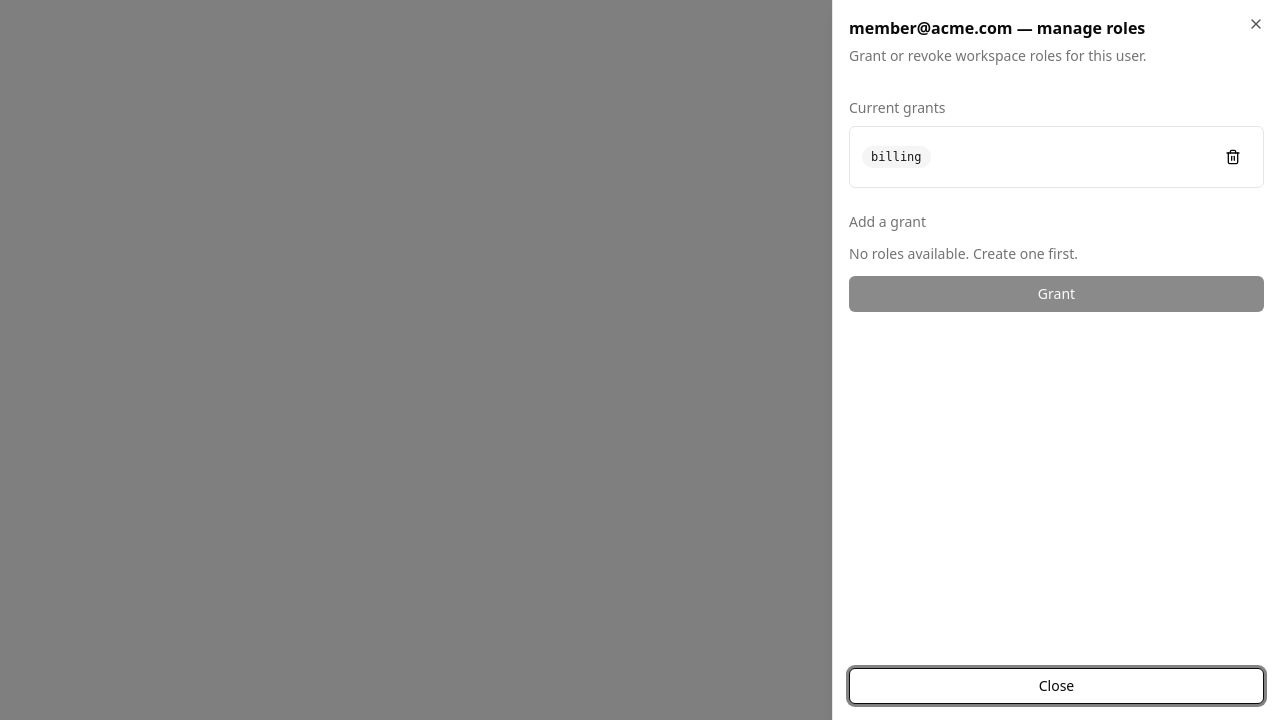
Scenario: <GrantManagerDialog scope='workspace' /> › renders the owner-floor error inline when revoke returns 409
Expected: the text "billing" is shown, 862,146 -> 931,168
Click the button named "revoke billing". click: (1233, 157)
box: 1215,139 -> 1251,175
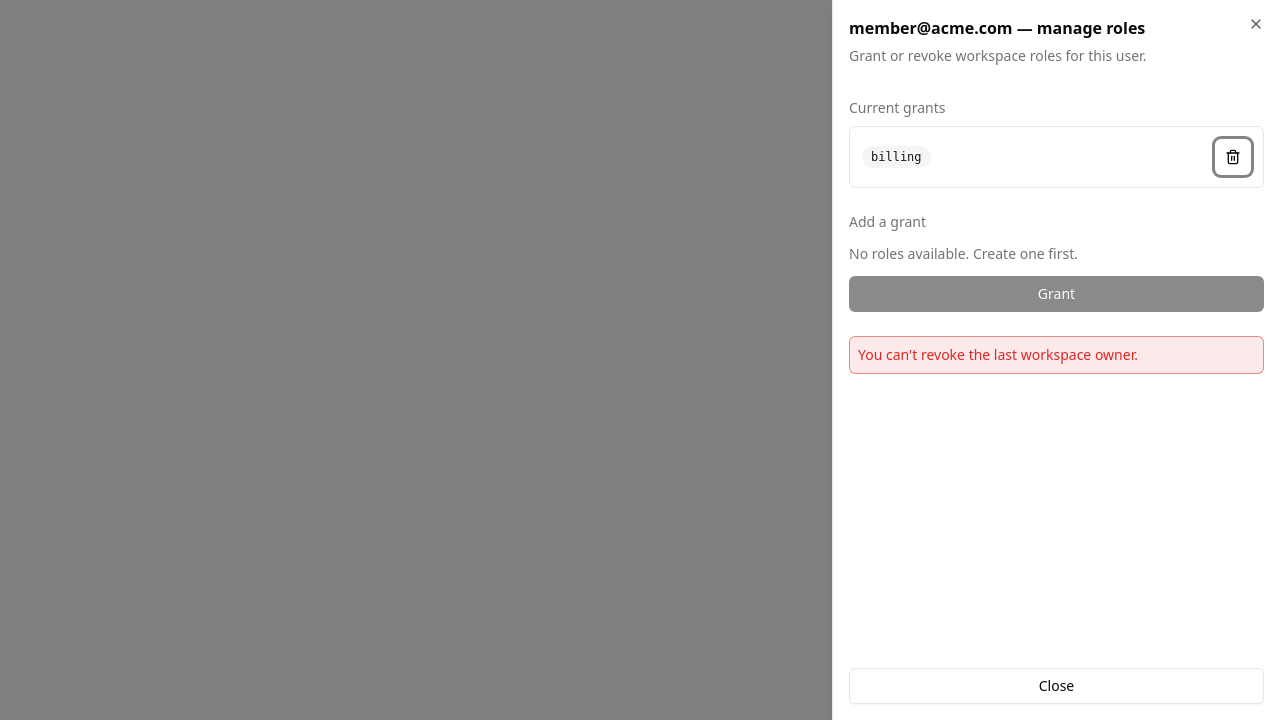
Expected: the text "You can't revoke the last workspace owner." is shown, 849,336 -> 1264,374
